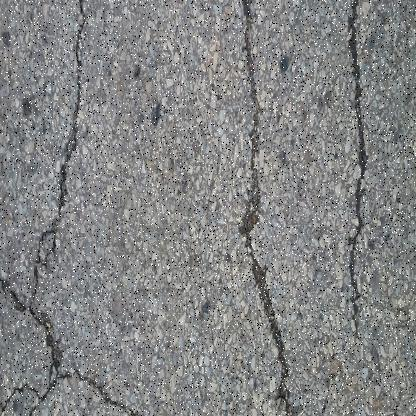Cracks: (0, 0, 144, 416), (234, 0, 299, 416), (347, 0, 378, 333)
